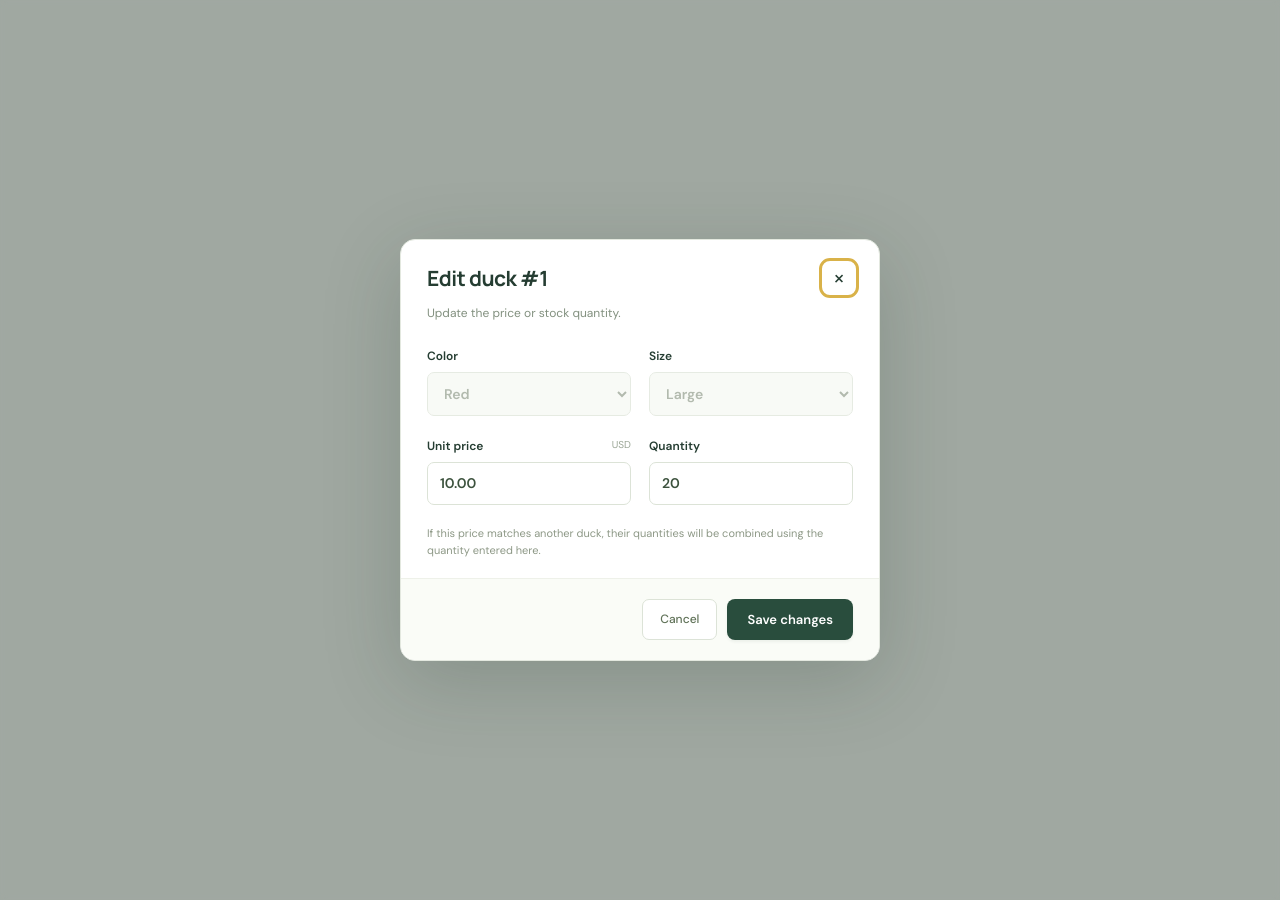
DuckForm › prevents resubmission after an ambiguous commit until inventory is reloaded
This screenshot has width=1280, height=900.
Step 1. Click the button "Save changes" → {"x": 790, "y": 619}, box 728,599 -> 853,640
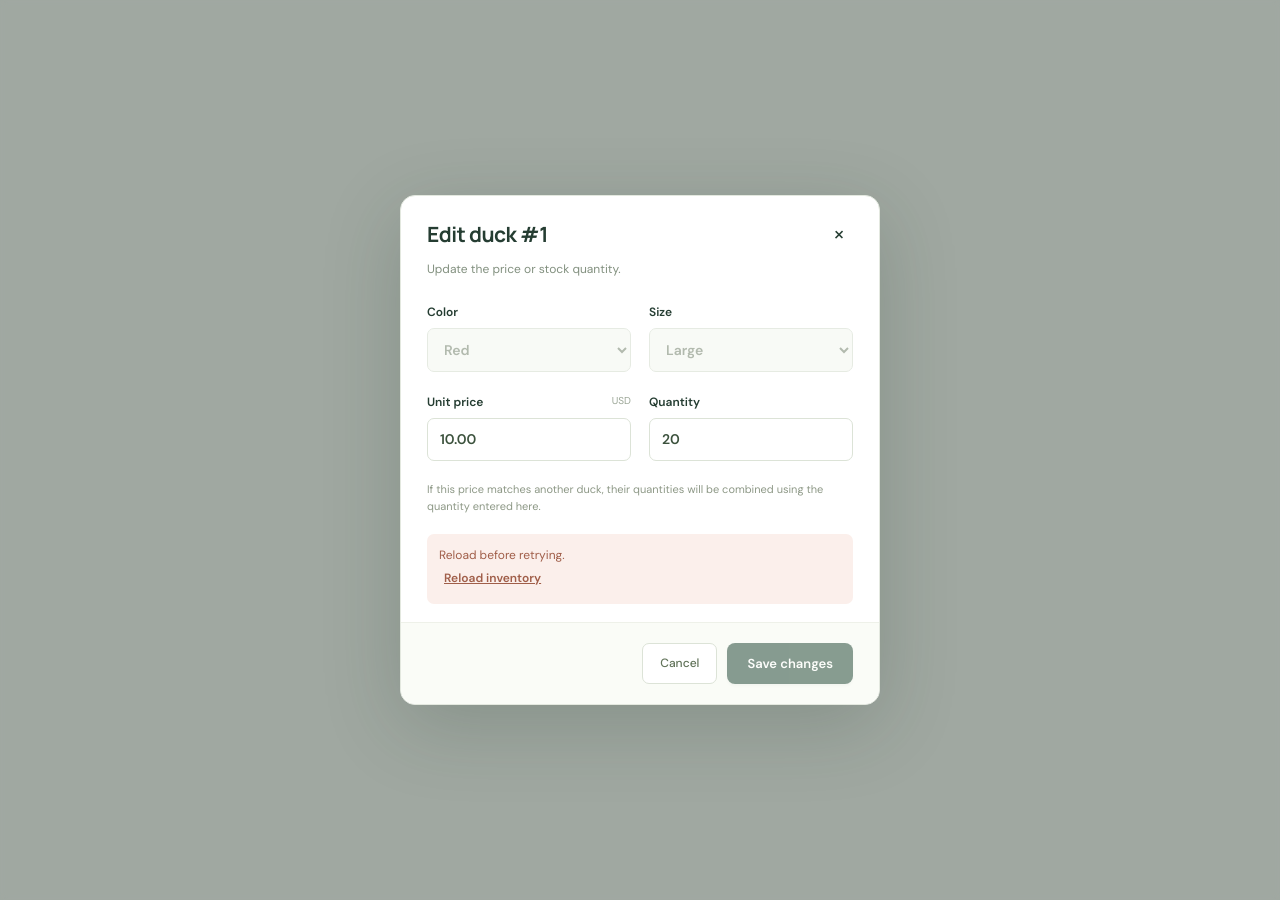
Result: the button "Reload inventory" is enabled at 439,564 -> 546,592
Result: the button "Save changes" is disabled at 728,643 -> 853,684
